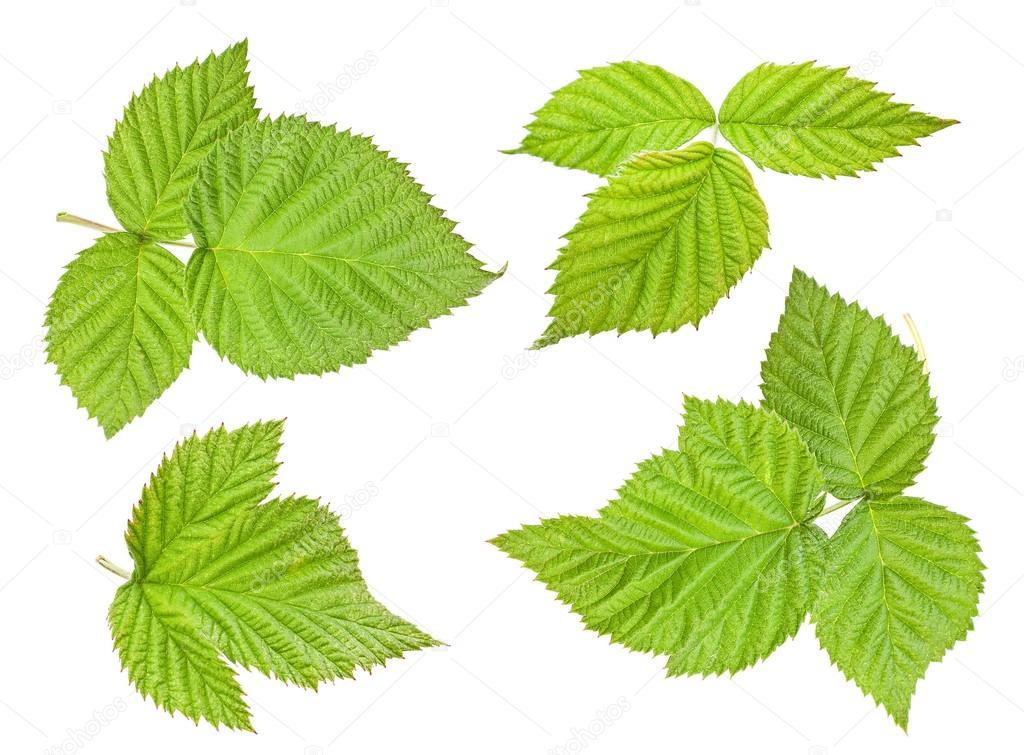Raspberry leaf: (484, 391, 827, 680), (186, 112, 505, 381), (162, 494, 448, 692), (527, 142, 772, 351), (812, 486, 988, 742), (759, 266, 941, 504), (104, 34, 269, 240), (39, 232, 198, 442), (714, 57, 959, 181), (119, 416, 290, 585), (497, 56, 717, 181), (98, 583, 263, 734)
